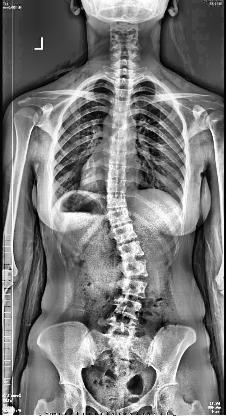Vertebrae: (111, 298, 143, 318), (121, 278, 149, 300), (106, 319, 136, 335), (120, 240, 144, 260), (114, 224, 138, 244), (104, 178, 130, 196), (124, 260, 149, 278), (107, 210, 133, 226), (107, 165, 127, 182), (112, 99, 130, 115), (108, 193, 128, 207), (113, 124, 130, 140), (114, 113, 130, 129), (110, 150, 128, 164), (112, 138, 130, 152)
